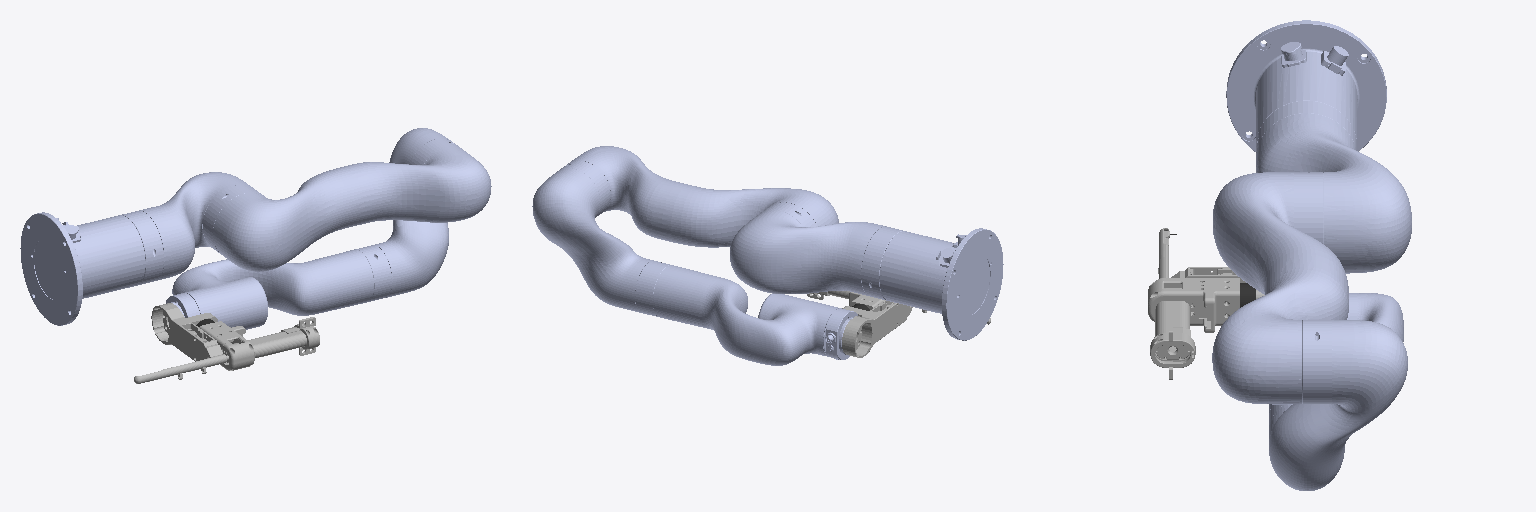
The robot description file, URDF, robot "uf850_raad_alpha1p1b":
<?xml version="1.0" encoding="utf-8"?>
<!-- This URDF was automatically created by SolidWorks to URDF Exporter! Originally created by
[author] ([email redacted]) 
     Commit Version: 1.6.0-4-g7f85cfe  Build Version: 1.6.7995.38578
     For more information, please see http://wiki.ros.org/sw_urdf_exporter -->
<robot name="uf850_raad_alpha1p1b">
  <link name="world"></link>
  <joint name="base_mount_fixed_joint" type="fixed">
    <origin xyz="0 0 0.0" rpy="0 1.5708 0" />
    <parent link="world" />
    <child link="base_link" />
  </joint>
  <link name="base_link">
    <inertial>
      <origin xyz="-0.00052938 9.0739E-05 0.085358" rpy="0 0 0" />
      <mass value="2.2693" />
      <inertia ixx="0.0063732" ixy="1.2518E-05" ixz="-4.542E-05" iyy="0.0064351" iyz="7.4091E-06"
        izz="0.0048914" />
    </inertial>
    <visual>
      <origin xyz="0 0 0" rpy="0 0 0" />
      <geometry>
        <mesh filename="../../meshes/uf850-alpha1p1b-side-mount/base_link.STL" />
      </geometry>
      <material name="">
        <color rgba="0.79216 0.81961 0.93333 1" />
      </material>
    </visual>
    <collision>
      <origin xyz="0 0 0" rpy="0 0 0" />
      <geometry>
        <mesh filename="../../meshes/uf850-alpha1p1b-side-mount/base_link.STL" />
      </geometry>
    </collision>
  </link>
  <link name="link1">
    <inertial>
      <origin xyz="4.7266E-07 0.034156 0.12262" rpy="0 0 0" />
      <mass value="2.5825" />
      <inertia ixx="0.014201" ixy="-6.717E-08" ixz="6.8507E-07" iyy="0.013014" iyz="-0.0040524"
        izz="0.0058094" />
    </inertial>
    <visual>
      <origin xyz="0 0 0" rpy="0 0 0" />
      <geometry>
        <mesh filename="../../meshes/uf850-alpha1p1b-side-mount/link1.STL" />
      </geometry>
      <material name="">
        <color rgba="0.79216 0.81961 0.93333 1" />
      </material>
    </visual>
    <collision>
      <origin xyz="0 0 0" rpy="0 0 0" />
      <geometry>
        <mesh filename="../../meshes/uf850-alpha1p1b-side-mount/link1.STL" />
      </geometry>
    </collision>
  </link>
  <joint name="joint1" type="revolute">
    <origin xyz="0 0 0.185" rpy="0 0 0" />
    <parent link="base_link" />
    <child link="link1" />
    <axis xyz="0 0 1" />
    <limit lower="-6.2657" upper="6.2657" effort="0" velocity="0" />
  </joint>
  <link name="link2">
    <inertial>
      <origin xyz="0.20307 -6.059E-05 0.016981" rpy="0 0 0" />
      <mass value="3.9263" />
      <inertia ixx="0.0069392" ixy="-2.2413E-05" ixz="0.0017331" iyy="0.081059" iyz="2.9717E-06"
        izz="0.079552" />
    </inertial>
    <visual>
      <origin xyz="0 0 0" rpy="0 0 0" />
      <geometry>
        <mesh filename="../../meshes/uf850-alpha1p1b-side-mount/link2.STL" />
      </geometry>
      <material name="">
        <color rgba="0.79216 0.81961 0.93333 1" />
      </material>
    </visual>
    <collision>
      <origin xyz="0 0 0" rpy="0 0 0" />
      <geometry>
        <mesh filename="../../meshes/uf850-alpha1p1b-side-mount/link2.STL" />
      </geometry>
    </collision>
  </link>
  <joint name="joint2" type="revolute">
    <origin xyz="0 -0.015 0.1785" rpy="1.5708 -1.5708 0" />
    <parent link="link1" />
    <child link="link2" />
    <axis xyz="0 0 1" />
    <limit lower="-2.2689" upper="2.2689" effort="0" velocity="0" />
  </joint>
  <link name="link3">
    <inertial>
      <origin xyz="0.0863494948425114 0.0483182570219465 -0.000543086768490797" rpy="0 0 0" />
      <mass value="1.93939268353005" />
      <inertia ixx="0.00561052110803925" ixy="-0.00336823252984434" ixz="0.00333457634884906"
        iyy="0.0103133445549512" iyz="0.00164940520878415" izz="0.01071387280808" />
    </inertial>
    <visual>
      <origin xyz="0 0 0" rpy="0 0 0" />
      <geometry>
        <mesh filename="../../meshes/uf850-alpha1p1b-side-mount/link3.STL" />
      </geometry>
      <material name="">
        <color rgba="0.792156862745098 0.819607843137255 0.933333333333333 1" />
      </material>
    </visual>
    <collision>
      <origin xyz="0 0 0" rpy="0 0 0" />
      <geometry>
        <mesh filename="../../meshes/uf850-alpha1p1b-side-mount/link3.STL" />
      </geometry>
    </collision>
  </link>
  <joint name="joint3" type="revolute">
    <origin xyz="0.39 0 -0.045" rpy="3.1416 0 -1.5708" />
    <parent link="link2" />
    <child link="link3" />
    <axis xyz="0 0 1" />
    <limit lower="-4.1888" upper="0.0349" effort="0" velocity="0" />
  </joint>
  <link name="link4">
    <inertial>
      <origin xyz="-1.7502E-05 -0.031962 0.12983" rpy="0 0 0" />
      <mass value="1.4855" />
      <inertia ixx="0.012521" ixy="-1.2331E-07" ixz="3.9881E-07" iyy="0.010509" iyz="0.0041027"
        izz="0.0033564" />
    </inertial>
    <visual>
      <origin xyz="0 0 0" rpy="0 0 0" />
      <geometry>
        <mesh filename="../../meshes/uf850-alpha1p1b-side-mount/link4.STL" />
      </geometry>
      <material name="">
        <color rgba="0.79216 0.81961 0.93333 1" />
      </material>
    </visual>
    <collision>
      <origin xyz="0 0 0" rpy="0 0 0" />
      <geometry>
        <mesh filename="../../meshes/uf850-alpha1p1b-side-mount/link4.STL" />
      </geometry>
    </collision>
  </link>
  <joint name="joint4" type="revolute">
    <origin xyz="0.15 0.15973 -0.03" rpy="-1.5708 0 0" />
    <parent link="link3" />
    <child link="link4" />
    <axis xyz="0 0 1" />
    <limit lower="-6.2657" upper="6.2657" effort="0" velocity="0" />
  </joint>
  <link name="link5">
    <inertial>
      <origin xyz="-0.00505548570000536 -1.2161662732435E-08 0.0468416823930789" rpy="0 0 0" />
      <mass value="0.78944978594375" />
      <inertia ixx="0.000780755039152321" ixy="5.0099335354952E-09" ixz="1.46023134922528E-05"
        iyy="0.00146715851200513" iyz="-1.30533246316669E-09" izz="0.00139383228282704" />
    </inertial>
    <visual>
      <origin xyz="0 0 0" rpy="0 0 0" />
      <geometry>
        <mesh filename="../../meshes/uf850-alpha1p1b-side-mount/link5.STL" />
      </geometry>
      <material name="">
        <color rgba="0.792156862745098 0.819607843137255 0.933333333333333 1" />
      </material>
    </visual>
    <collision>
      <origin xyz="0 0 0" rpy="0 0 0" />
      <geometry>
        <mesh filename="../../meshes/uf850-alpha1p1b-side-mount/link5.STL" />
      </geometry>
    </collision>
  </link>
  <joint name="joint5" type="revolute">
    <origin xyz="-2.0826E-05 -0.051 0.266" rpy="-1.5708 -1.5708 0" />
    <parent link="link4" />
    <child link="link5" />
    <axis xyz="0 0 1" />
    <limit lower="-2.0944" upper="2.0944" effort="0" velocity="0" />
  </joint>
  <link name="link6">
    <inertial>
      <origin xyz="-4.7204E-05 0.00063906 0.013226" rpy="0 0 0" />
      <mass value="0.14189" />
      <inertia ixx="6.7663E-05" ixy="-2.7766E-07" ixz="-8.3162E-09" iyy="7.0062E-05"
        iyz="-2.9674E-08" izz="0.00012021" />
    </inertial>
    <visual>
      <origin xyz="0 0 0" rpy="0 0 0" />
      <geometry>
        <mesh filename="../../meshes/uf850-alpha1p1b-side-mount/link6.STL" />
      </geometry>
      <material name="">
        <color rgba="0.79216 0.81961 0.93333 1" />
      </material>
    </visual>
    <collision>
      <origin xyz="0 0 0" rpy="0 0 0" />
      <geometry>
        <mesh filename="../../meshes/uf850-alpha1p1b-side-mount/link6.STL" />
      </geometry>
    </collision>
  </link>
  <joint name="joint6" type="revolute">
    <origin xyz="0.06 0 0.0505" rpy="1.5708 0 1.5708" />
    <parent link="link5" />
    <child link="link6" />
    <axis xyz="0 0 1" />
    <limit lower="-6.2657" upper="6.2657" effort="0" velocity="0" />
  </joint>
  <link name="ee_mnt_link">
    <inertial>
      <origin xyz="2.892E-05 0.07155 0.0085809" rpy="0 0 0" />
      <mass value="0.15544" />
      <inertia ixx="0.00028466" ixy="-8.8984E-08" ixz="-1.2599E-07" iyy="0.00010436"
        iyz="-1.7621E-05" izz="0.00024221" />
    </inertial>
    <visual>
      <origin xyz="0 0 0" rpy="0 0 0" />
      <geometry>
        <mesh filename="../../meshes/uf850-alpha1p1b-side-mount/ee_mnt_link.STL" />
      </geometry>
      <material name="">
        <color rgba="0.75294 0.75294 0.75294 1" />
      </material>
    </visual>
    <collision>
      <origin xyz="0 0 0" rpy="0 0 0" />
      <geometry>
        <mesh filename="../../meshes/uf850-alpha1p1b-side-mount/ee_mnt_link.STL" />
      </geometry>
    </collision>
  </link>
  <joint name="ee_mnt_fixed_joint" type="fixed">
    <origin xyz="0 0 0.03" rpy="0 0 0" />
    <parent link="link6" />
    <child link="ee_mnt_link" />
    <axis xyz="0 0 0" />
  </joint>
  <link name="ft_sensor_link">
    <inertial>
      <origin xyz="0 0 2.77555756156289E-17" rpy="0 0 0" />
      <mass value="0.0250988287832203" />
      <inertia ixx="4.37949460885344E-06" ixy="9.64543688931354E-21" ixz="1.46138448716455E-21"
        iyy="4.37949460885346E-06" iyz="2.4472267669352E-22" izz="7.28318704410399E-06" />
    </inertial>
    <visual>
      <origin xyz="0 0 0" rpy="0 0 0" />
      <geometry>
        <mesh filename="../../meshes/uf850-alpha1p1b-side-mount/ft_sensor_link.STL" />
      </geometry>
      <material name="">
        <color rgba="0.250980392156863 0.250980392156863 0.250980392156863 1" />
      </material>
    </visual>
    <collision>
      <origin xyz="0 0 0" rpy="0 0 0" />
      <geometry>
        <mesh filename="../../meshes/uf850-alpha1p1b-side-mount/ft_sensor_link.STL" />
      </geometry>
    </collision>
  </link>
  <joint name="ft_sensor_fixed_joint" type="fixed">
    <origin xyz="0 0.0695 -0.025" rpy="-1.5708 -1.5708 0" />
    <parent link="ee_mnt_link" />
    <child link="ft_sensor_link" />
    <axis xyz="0 0 0" />
  </joint>
  <link name="tool_mnt_link">
    <inertial>
      <origin xyz="-0.00194216460710694 -2.7655906731372E-08 0.0421833729352894" rpy="0 0 0" />
      <mass value="0.110626907130558" />
      <inertia ixx="3.36078411228929E-05" ixy="-3.0935363163E-10" ixz="3.48055629011794E-07"
        iyy="3.8107615873046E-05" iyz="6.39570510534078E-11" izz="5.33202268364943E-05" />
    </inertial>
    <visual>
      <origin xyz="0 0 0" rpy="0 0 0" />
      <geometry>
        <mesh filename="../../meshes/uf850-alpha1p1b-side-mount/tool_mnt_link.STL" />
      </geometry>
      <material name="">
        <color rgba="0.752941176470588 0.752941176470588 0.752941176470588 1" />
      </material>
    </visual>
    <collision>
      <origin xyz="0 0 0" rpy="0 0 0" />
      <geometry>
        <mesh filename="../../meshes/uf850-alpha1p1b-side-mount/tool_mnt_link.STL" />
      </geometry>
    </collision>
  </link>
  <joint name="tool_mnt_fixed_joint" type="fixed">
    <origin xyz="0 0 0.0095" rpy="0 0 0" />
    <parent link="ft_sensor_link" />
    <child link="tool_mnt_link" />
    <axis xyz="0 0 0" />
  </joint>
  <link name="tool_handle_link">
    <inertial>
      <origin xyz="1.7266E-05 0.00034279 0.020394" rpy="0 0 0" />
      <mass value="0.059728" />
      <inertia ixx="7.2764E-05" ixy="2.0154E-12" ixz="3.1877E-09" iyy="7.1572E-05" iyz="-2.0054E-07"
        izz="1.5442E-05" />
    </inertial>
    <visual>
      <origin xyz="0 0 0" rpy="0 0 0" />
      <geometry>
        <mesh filename="../../meshes/uf850-alpha1p1b-side-mount/tool_handle_link.STL" />
      </geometry>
      <material name="">
        <color rgba="0.75294 0.75294 0.75294 1" />
      </material>
    </visual>
    <collision>
      <origin xyz="0 0 0" rpy="0 0 0" />
      <geometry>
        <mesh filename="../../meshes/uf850-alpha1p1b-side-mount/tool_handle_link.STL" />
      </geometry>
    </collision>
  </link>
  <joint name="tool_handle_fixed_joint" type="fixed">
    <origin xyz="-0.0595 0 0.07975" rpy="-1.5708 0 1.5708" />
    <parent link="tool_mnt_link" />
    <child link="tool_handle_link" />
    <axis xyz="0 0 0" />
  </joint>
  <link name="tool_head_link">
    <inertial>
      <origin xyz="0.010735 0.002192 4.9195E-07" rpy="0 0 0" />
      <mass value="0.00049397" />
      <inertia ixx="7.715E-09" ixy="-1.2624E-09" ixz="-3.2307E-14" iyy="1.7425E-08" iyz="5.3555E-14"
        izz="1.7014E-08" />
    </inertial>
    <visual>
      <origin xyz="0 0 0" rpy="0 0 0" />
      <geometry>
        <mesh filename="../../meshes/uf850-alpha1p1b-side-mount/tool_head_link.STL" />
      </geometry>
      <material name="">
        <color rgba="0.75294 0.75294 0.75294 1" />
      </material>
    </visual>
    <collision>
      <origin xyz="0 0 0" rpy="0 0 0" />
      <geometry>
        <mesh filename="../../meshes/uf850-alpha1p1b-side-mount/tool_head_link.STL" />
      </geometry>
    </collision>
  </link>
  <joint name="tool_articulated_joint" type="revolute">
    <origin xyz="0 -0.01075 -0.2305" rpy="0 1.5708 0" />
    <parent link="tool_handle_link" />
    <child link="tool_head_link" />
    <axis xyz="0 0 1" />
    <limit lower="0" upper="0.6981" effort="0" velocity="0" />
  </joint>
  <link name="tool_tip_link">
    <inertial>
      <origin xyz="-3.1642E-05 1.1102E-16 -0.0075969" rpy="0 0 0" />
      <mass value="2.65E-05" />
      <inertia ixx="5.748E-10" ixy="-6.0086E-27" ixz="-2.9788E-12" iyy="5.7436E-10" iyz="1.4482E-24"
        izz="6.936E-12" />
    </inertial>
    <visual>
      <origin xyz="0 0 0" rpy="0 0 0" />
      <geometry>
        <mesh filename="../../meshes/uf850-alpha1p1b-side-mount/tool_tip_link.STL" />
      </geometry>
      <material name="">
        <color rgba="0.25098 0.25098 0.25098 1" />
      </material>
    </visual>
    <collision>
      <origin xyz="0 0 0" rpy="0 0 0" />
      <geometry>
        <mesh filename="../../meshes/uf850-alpha1p1b-side-mount/tool_tip_link.STL" />
      </geometry>
    </collision>
  </link>
  <joint name="tip_link_fixed_joint" type="fixed">
    <origin xyz="0.0174 0.014749 0" rpy="-1.5708 -1.5708 0" />
    <parent link="tool_head_link" />
    <child link="tool_tip_link" />
    <axis xyz="0 0 0" />
  </joint>
  <link name="screwdriver_tip_link"></link>
  <joint name="screwdriver_tip_link_fixed_joint" type="fixed">
    <origin xyz="0.0174 0.009249 0" rpy="-1.5708 -1.5708 0" />
    <parent link="tool_head_link" />
    <child link="screwdriver_tip_link" />
    <axis xyz="0 0 0" />
  </joint>
</robot>

--- Render facts (derived) ---
The picture shows the robot from 3 angles, left to right: view 1: azimuth 30°, elevation 25°; view 2: azimuth 150°, elevation 25°; view 3: azimuth 270°, elevation 25°; orthographic projection.
Model uf850_raad_alpha1p1b with 15 links and 14 joints (7 revolute, 7 fixed), rooted at world, posed every joint at zero.
Links seen in each view (by area): view 1: link2, base_link, link4, link3, link1, ee_mnt_link, link5, tool_handle_link, tool_mnt_link; view 2: link2, base_link, link1, link3, link4, ee_mnt_link, link5, link6; view 3: link2, link1, base_link, link3, tool_mnt_link, tool_handle_link, link4, ee_mnt_link.
Boxes of the visible links, x1,y1,x2,y2 form: link2: (213,139,491,271); base_link: (20,211,163,325); link4: (172,249,373,315); link3: (357,128,450,301); link1: (139,172,263,280); ee_mnt_link: (134,303,226,383); link5: (185,277,267,329); tool_handle_link: (223,317,319,363); tool_mnt_link: (199,321,254,370); link2: (560,146,838,247); base_link: (861,227,1003,340); link1: (730,202,886,295); link3: (532,168,669,316); link4: (653,265,808,365); ee_mnt_link: (842,300,990,357); link5: (758,293,838,356); link6: (823,308,857,359); link2: (1212,172,1348,404); link1: (1256,113,1411,273); base_link: (1226,20,1386,152); link3: (1269,320,1407,490); tool_mnt_link: (1148,278,1239,332); tool_handle_link: (1150,238,1195,379); link4: (1269,293,1403,412); ee_mnt_link: (1158,228,1264,298).
Bounding box of the posed robot: 0.8041 × 0.3134 × 0.2899 m (x, y, z).
Meshes: 13 distinct files referenced, 13 mesh visuals loaded (13 binary STL).